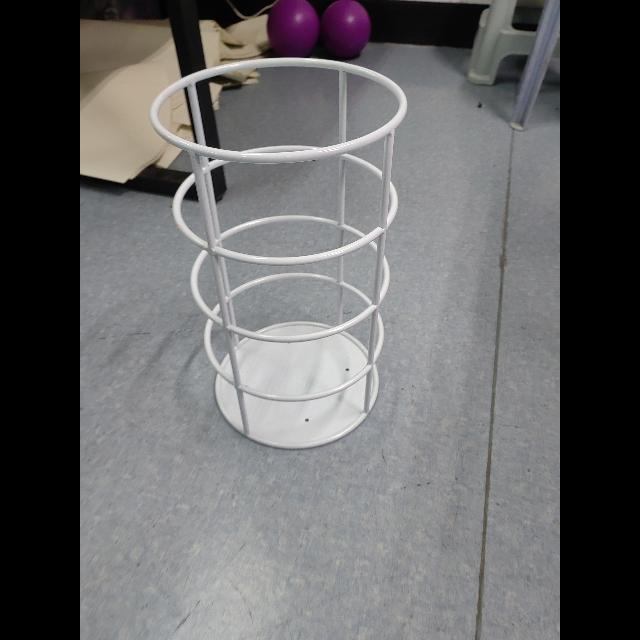S: (146, 54, 410, 452)
